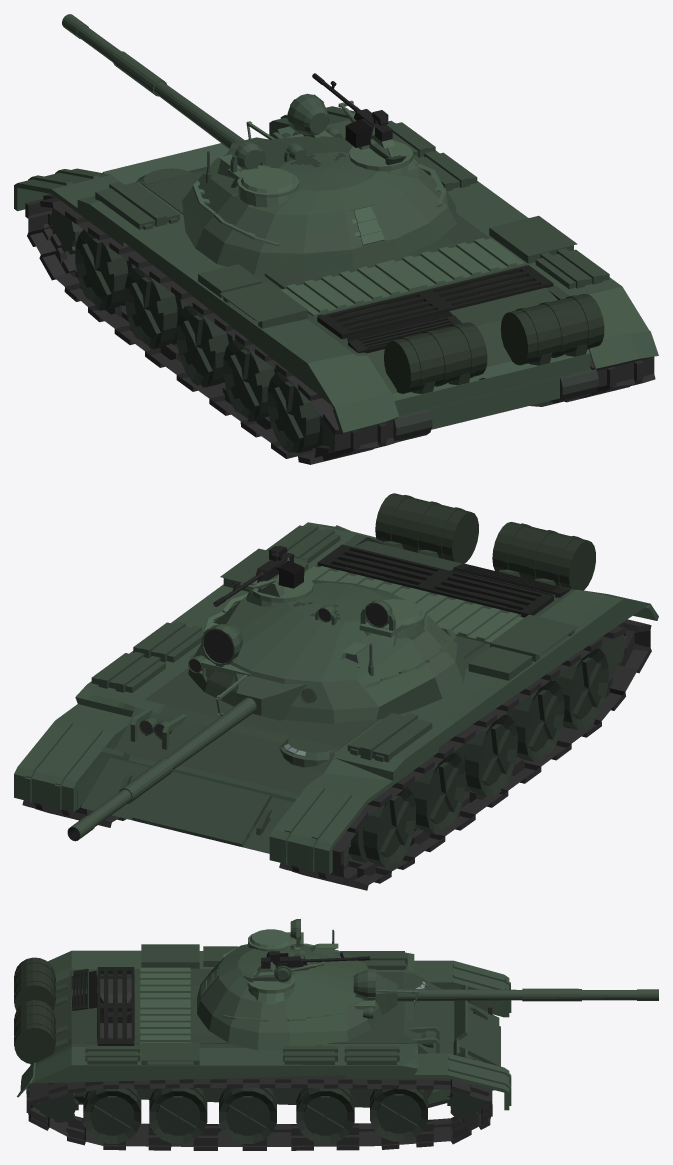
3 views of the same model, one above another, from view 1: azimuth 30°, elevation 25°; view 2: azimuth 150°, elevation 25°; view 3: azimuth 270°, elevation 25° (orthographic). The views are drawn at different scales.
Parts seen in each view (by area): view 1: cuboid_0, sphere_88, cylinder_1, cuboid_85, cylinder_142, cylinder_141, cylinder_25, cylinder_27, cuboid_82, cylinder_31, cylinder_23, cylinder_29 (+22 smaller); view 2: cuboid_0, sphere_88, cylinder_1, cylinder_142, cylinder_141, cuboid_85, cylinder_27, cylinder_25, cylinder_29, cylinder_23, cuboid_82, cylinder_31 (+23 smaller); view 3: cuboid_0, cylinder_2, sphere_88, cuboid_85, cylinder_9, cylinder_13, cylinder_11, cylinder_15, cylinder_6, cylinder_142, cylinder_141, cylinder_92 (+23 smaller).
Boxes of the visible parts, x1,y1,x2,y2 form: cuboid_0: (14,106,658,434); sphere_88: (182,136,457,276); cylinder_1: (25,194,398,464); cuboid_85: (280,238,524,316); cylinder_142: (500,294,604,365); cylinder_141: (384,322,487,393); cylinder_25: (124,267,177,349); cylinder_27: (176,305,228,387); cuboid_82: (317,290,448,339); cylinder_31: (267,372,320,453); cylinder_23: (75,229,128,310); cylinder_29: (223,339,274,421); cuboid_0: (14,522,658,874); sphere_88: (188,580,466,723); cylinder_1: (279,619,651,890); cylinder_142: (375,493,478,563); cylinder_141: (492,522,595,590); cuboid_85: (304,566,523,643); cylinder_27: (464,714,517,796); cylinder_25: (413,752,465,834); cylinder_29: (512,680,564,762); cylinder_23: (363,787,415,867); cuboid_82: (422,570,553,617); cylinder_31: (557,648,608,730); cuboid_0: (17,950,511,1110); cylinder_2: (26,1075,492,1150); sphere_88: (197,944,382,1050); cuboid_85: (140,967,190,1045); cylinder_9: (296,1088,354,1143); cylinder_13: (149,1088,207,1143); cylinder_11: (219,1088,276,1143); cylinder_15: (83,1088,141,1143); cylinder_6: (370,1089,427,1141); cylinder_142: (14,1000,55,1064); cylinder_141: (14,957,55,1010); cylinder_92: (397,989,522,1001).
Size of the model in its own units: 4.47 by 2.81 by 10.41.
8 materials, 8 textured.
